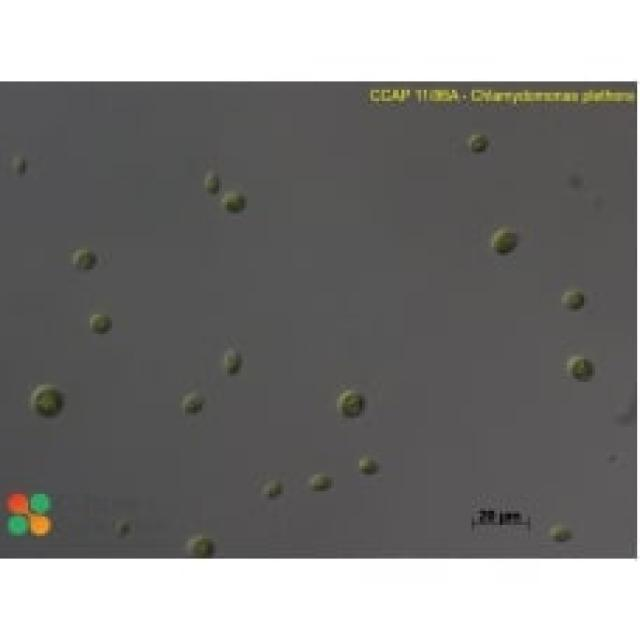Green Algae: (331, 382, 365, 421), (31, 382, 67, 418), (486, 224, 525, 256), (213, 340, 247, 376), (68, 239, 99, 275), (558, 278, 586, 314), (303, 463, 334, 494), (463, 126, 491, 158), (199, 166, 225, 197), (570, 354, 598, 382), (87, 309, 115, 337), (222, 185, 247, 216), (354, 447, 379, 478), (180, 390, 208, 416), (188, 530, 216, 556), (548, 525, 576, 544)
